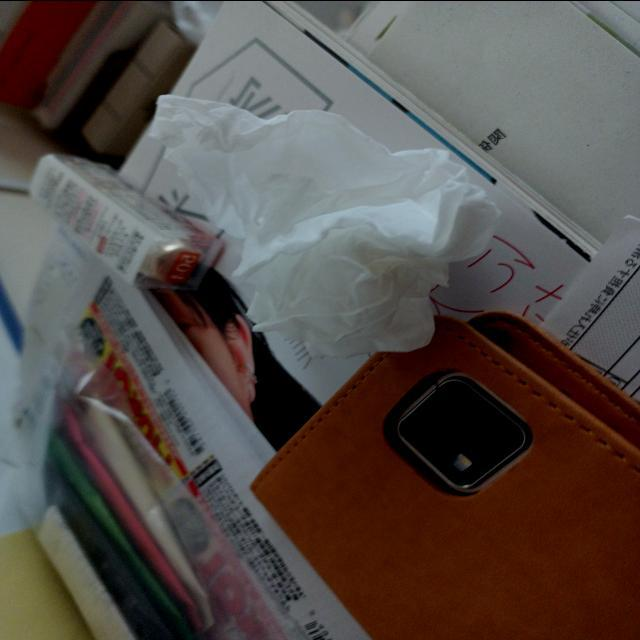Paper: (145, 69, 506, 370), (134, 264, 136, 268)
